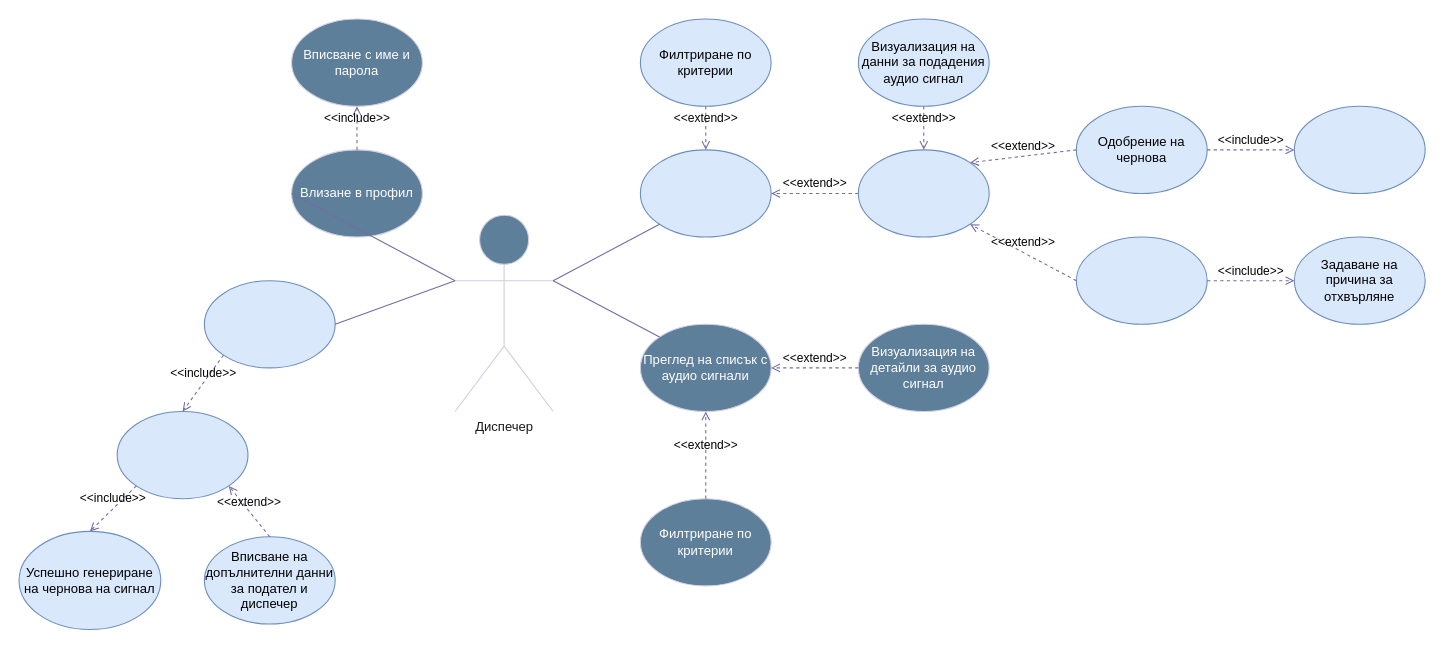
Image size: 1444x649. Some labels were removed from this diagram. Here are the shapes that lost their labels. From the top down, the centre of each, then its label:
At point 1359,149: "Записване на сигнал в базата от данни".
At point 705,193: "Преглед на списък с чернови".
At point 923,193: "Визуализация на детайли за чернова".
At point 1141,280: "Отхвърляне на чернова".
At point 269,324: "Прикачване на аудио сигнал за транскрипция".
At point 182,454: "Прикачване на файл".
